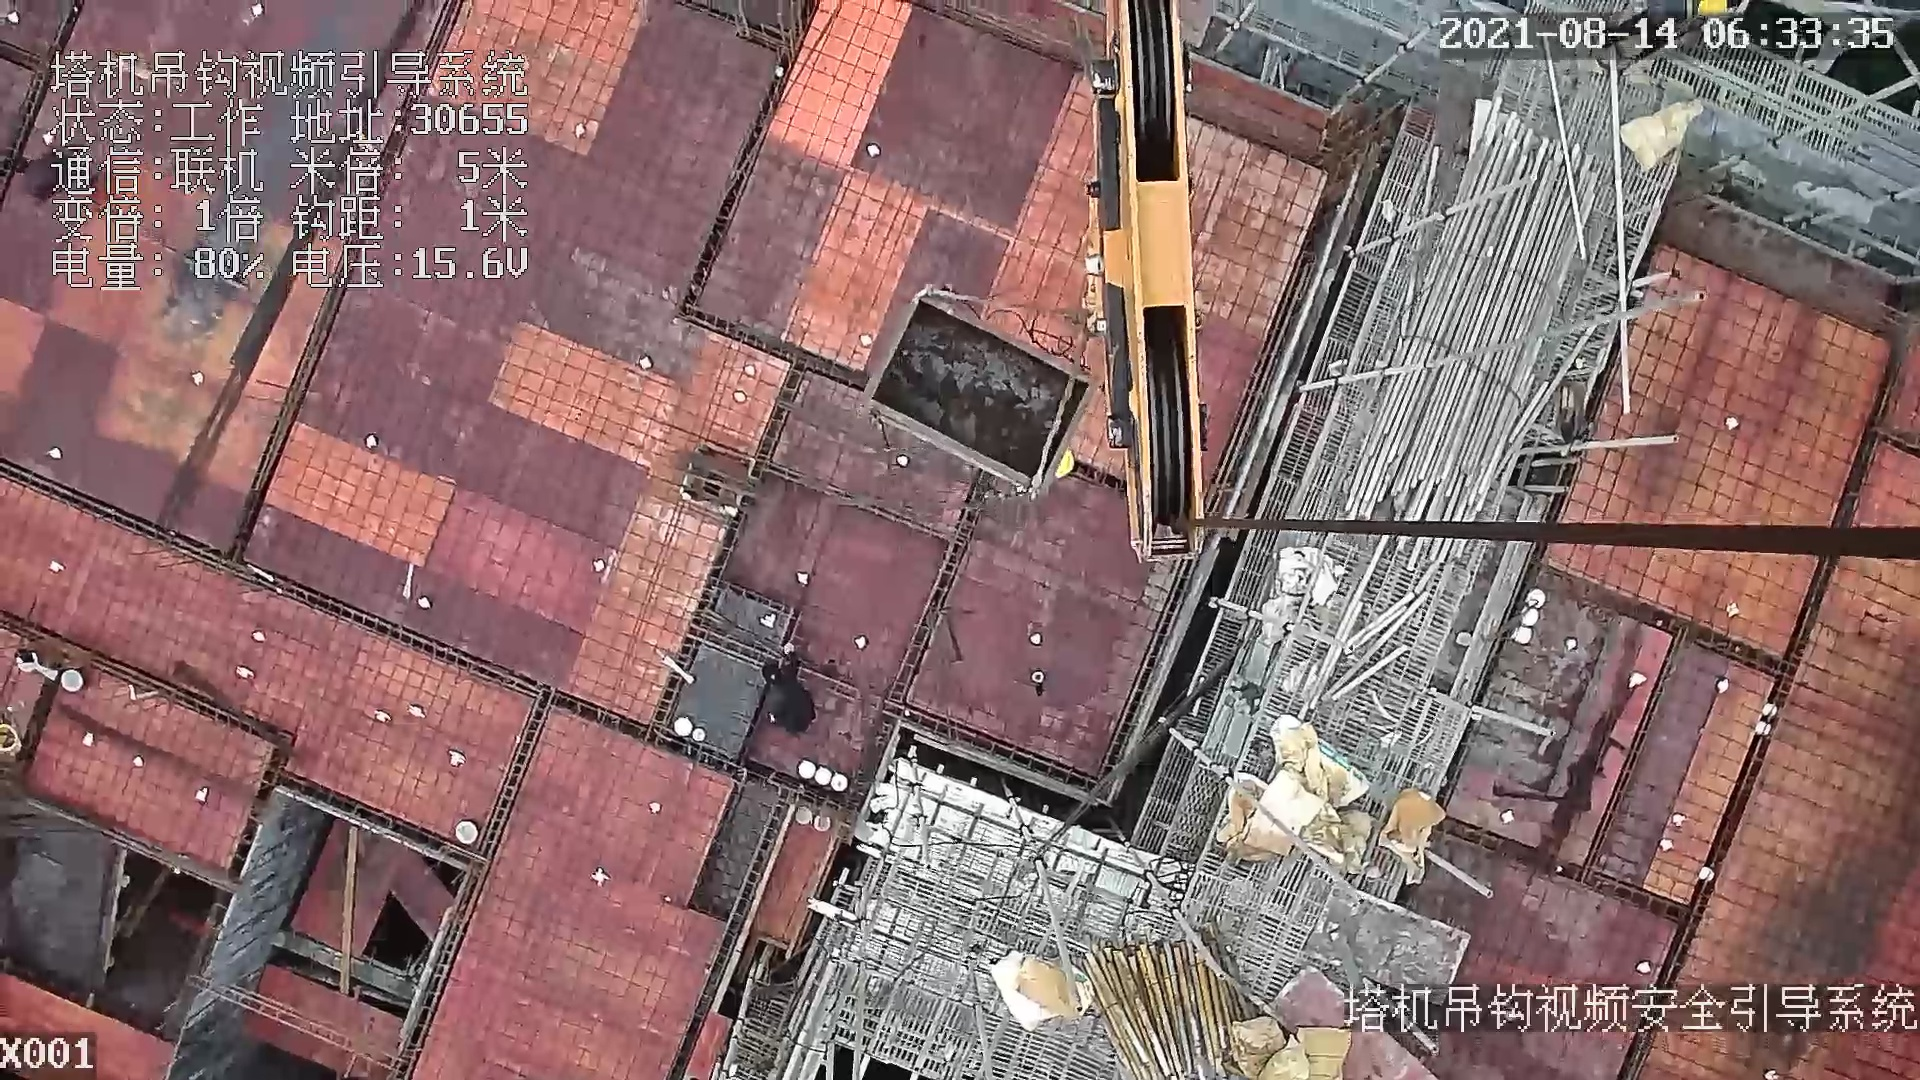hook: (1074, 1, 1206, 551)
hopper: (844, 269, 1097, 506)
person: (759, 645, 827, 742)
scaffold: (1383, 109, 1586, 556), (1076, 928, 1264, 1077)
